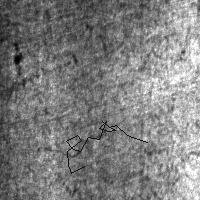crazing: (66, 121, 147, 173), (26, 144, 83, 198)
